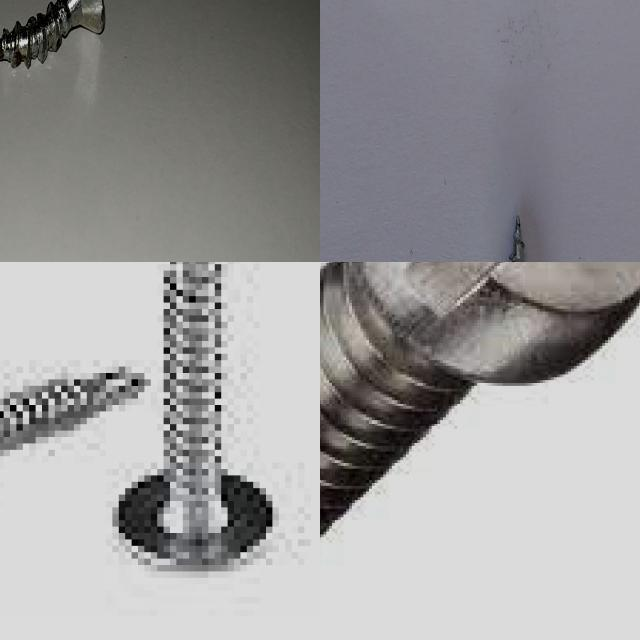Screw: (320, 262, 640, 541), (112, 262, 272, 571), (0, 367, 144, 456), (0, 0, 105, 67)
